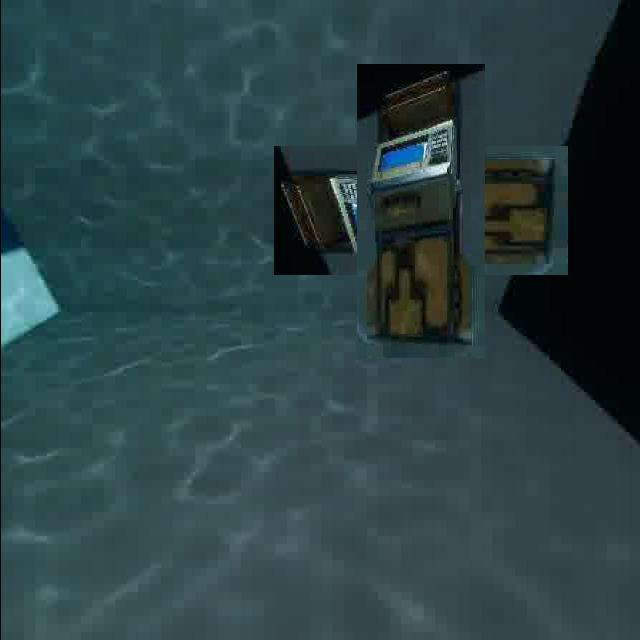Control Panel: (314, 105, 526, 316)
